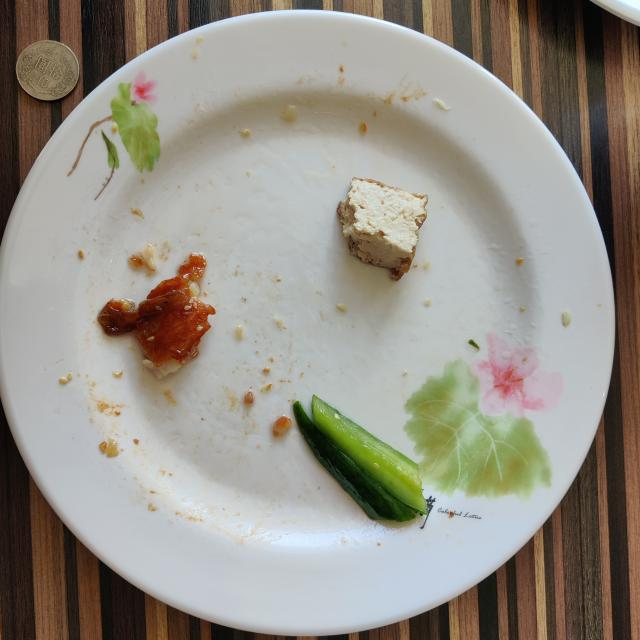Kabayaki sea bream fillet: (98, 254, 215, 379)
coin: (16, 40, 80, 100)
cucumber: (292, 395, 428, 521)
egg tofu: (338, 178, 428, 280)
